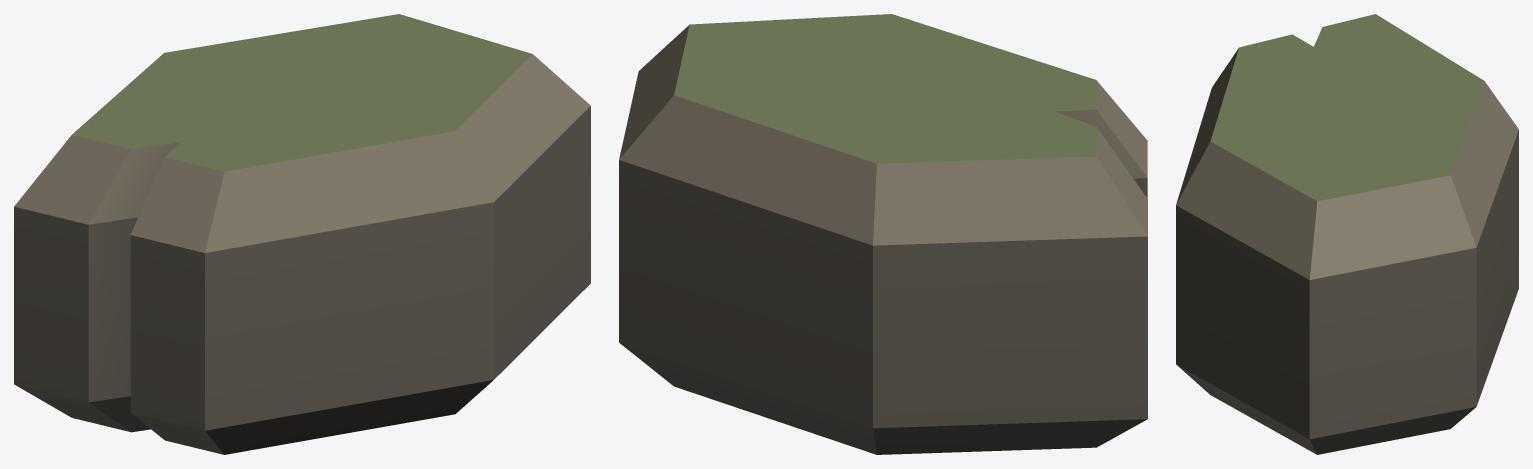
Rendered from rock-large-1.glb.
The picture shows the model from 3 angles, left to right: view 1: azimuth 30°, elevation 25°; view 2: azimuth 150°, elevation 25°; view 3: azimuth 270°, elevation 25°; orthographic projection. The views are drawn at different scales.
Visible parts, largest first — view 1: rock-large-1; view 2: rock-large-1; view 3: rock-large-1.
Part boxes in pixels (x1,y1,x2,y2): rock-large-1: (14, 14, 590, 454); rock-large-1: (619, 14, 1147, 454); rock-large-1: (1176, 14, 1518, 454).
Size of the model in its own units: 2.72 by 1.37 by 1.68.
